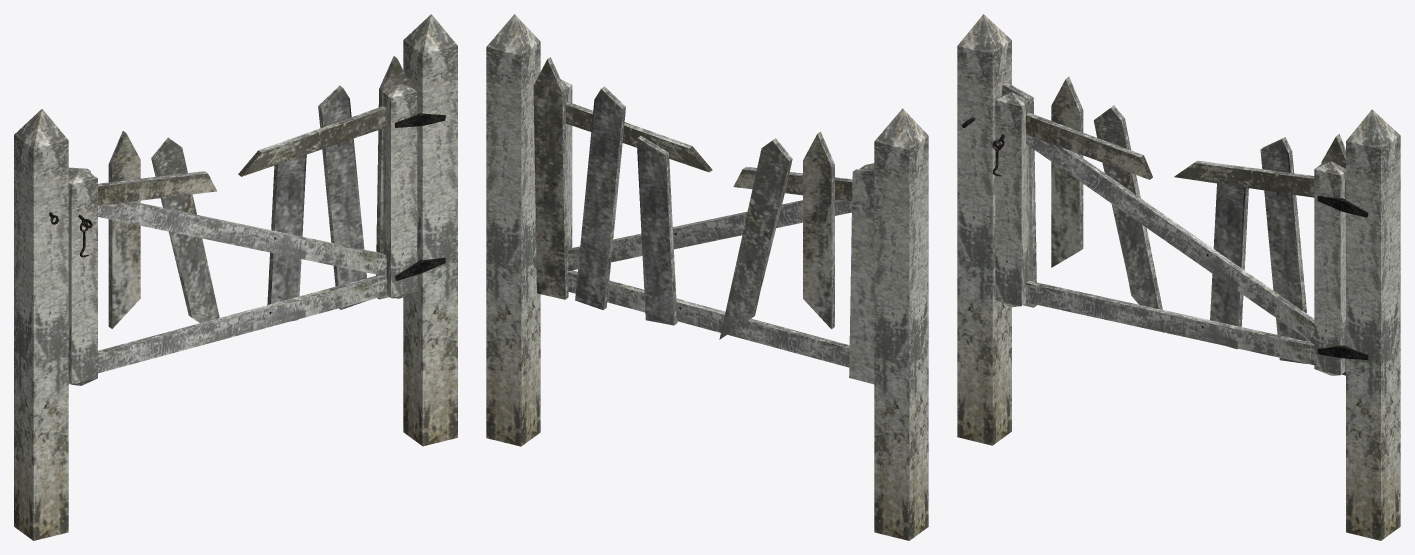
The model's file is Gate.FBX.
3 views of the same model, side by side, from view 1: azimuth 30°, elevation 25°; view 2: azimuth 150°, elevation 25°; view 3: azimuth 330°, elevation 25° (orthographic).
Visible parts, largest first — view 1: BGate:0, BPosts:0; view 2: BGate:0, BPosts:0; view 3: BGate:0, BPosts:0.
Part boxes in pixels (x1,y1,x2,y2): BGate:0: [68, 56, 423, 385]; BPosts:0: [14, 14, 457, 540]; BGate:0: [533, 57, 874, 384]; BPosts:0: [486, 14, 928, 540]; BGate:0: [992, 77, 1345, 375]; BPosts:0: [957, 14, 1400, 540].
Size of the model in its own units: 1.28 by 1.21 by 0.1482.
